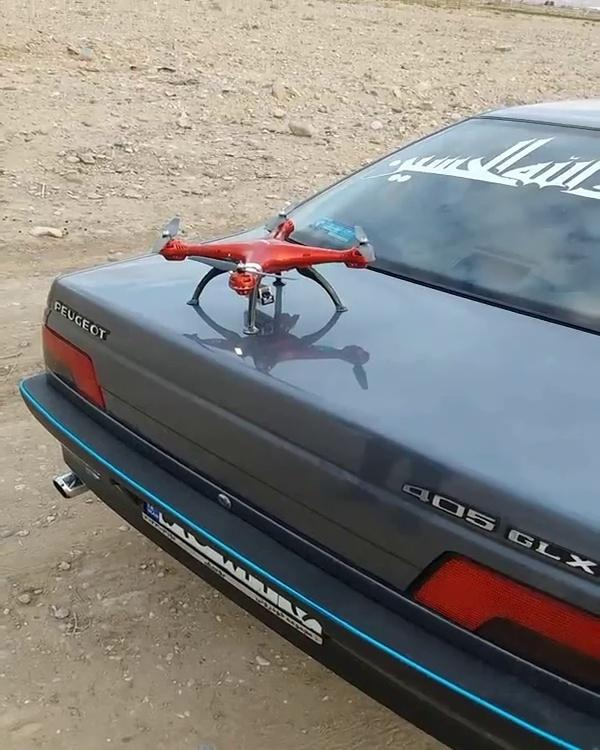drone: (151, 199, 373, 337)
